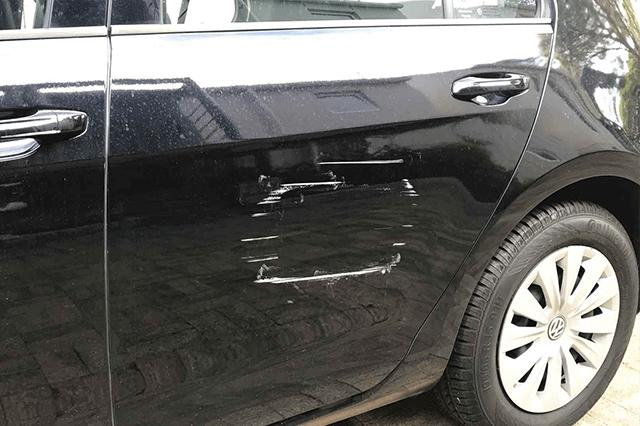scratch: (239, 145, 431, 309)
